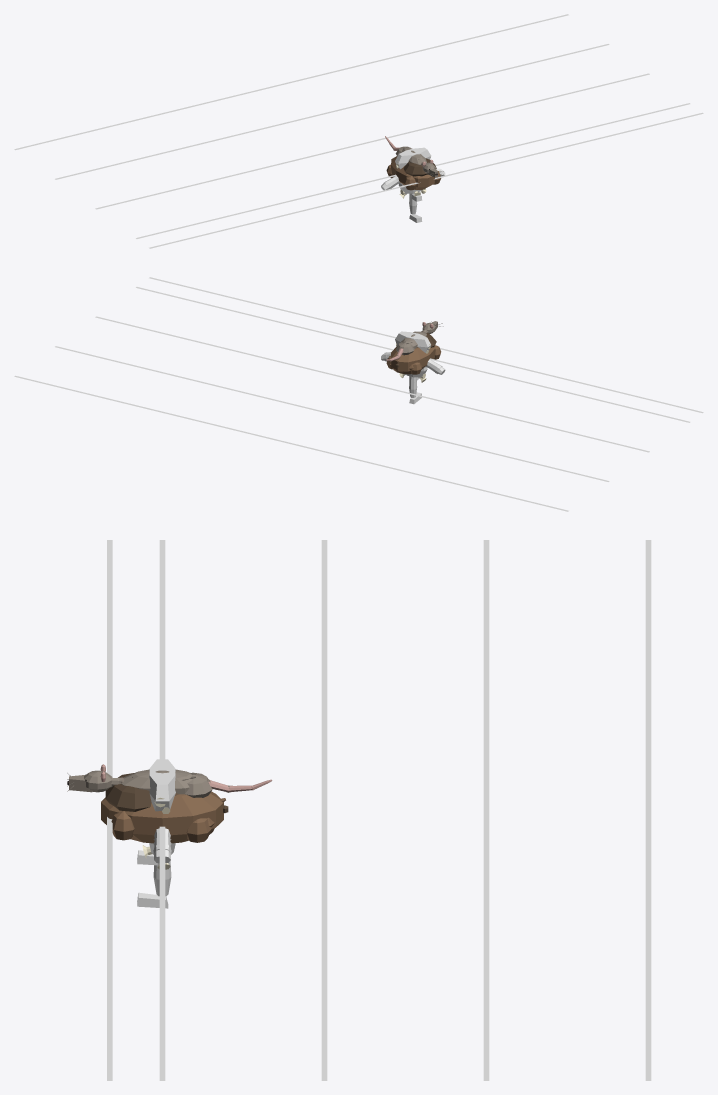
File: giant_rat.glb
The picture shows the model from 3 angles, top to bottom: view 1: azimuth 30°, elevation 25°; view 2: azimuth 150°, elevation 25°; view 3: azimuth 270°, elevation 25°; orthographic projection. The views are drawn at different scales.
Visible parts, largest first — view 1: NFLBear_FieldLine_4, NFLBear_FieldLine_5, NFLBear_FieldLine_3, NFLBear_FieldLine_1, NFLBear_FieldLine_2, Bear_BigBarrelBody, CutMode_RoundishTorso; view 2: NFLBear_FieldLine_4, NFLBear_FieldLine_3, NFLBear_FieldLine_5, NFLBear_FieldLine_2, NFLBear_FieldLine_1, Bear_BigBarrelBody, CutMode_RoundishTorso; view 3: NFLBear_FieldLine_3, NFLBear_FieldLine_4, NFLBear_FieldLine_5, NFLBear_FieldLine_2, Bear_BigBarrelBody, NFLBear_FieldLine_1, CutMode_RoundishTorso, Bear_ShoulderHump, Rat_LowBody.
Part boxes in pixels (x1,y1,x2,y2): NFLBear_FieldLine_4: (55,44,609,179); NFLBear_FieldLine_5: (14,14,568,150); NFLBear_FieldLine_3: (95,73,649,209); NFLBear_FieldLine_1: (149,112,703,248); NFLBear_FieldLine_2: (136,103,690,238); Bear_BigBarrelBody: (391,156,434,189); CutMode_RoundishTorso: (395,147,431,193); NFLBear_FieldLine_4: (55,346,609,481); NFLBear_FieldLine_3: (95,316,649,452); NFLBear_FieldLine_5: (14,375,568,511); NFLBear_FieldLine_2: (136,287,690,422); NFLBear_FieldLine_1: (149,277,703,413); Bear_BigBarrelBody: (391,346,435,371); CutMode_RoundishTorso: (395,331,430,377); NFLBear_FieldLine_3: (321,540,327,1080); NFLBear_FieldLine_4: (483,540,489,1080); NFLBear_FieldLine_5: (645,540,651,1080); NFLBear_FieldLine_2: (159,540,165,1080); Bear_BigBarrelBody: (101,791,223,843); NFLBear_FieldLine_1: (107,540,112,1080); CutMode_RoundishTorso: (149,759,175,854); Bear_ShoulderHump: (105,773,151,811); Rat_LowBody: (121,769,192,794).
Size of the model in its own units: 15.8 by 1.88 by 7.22.
